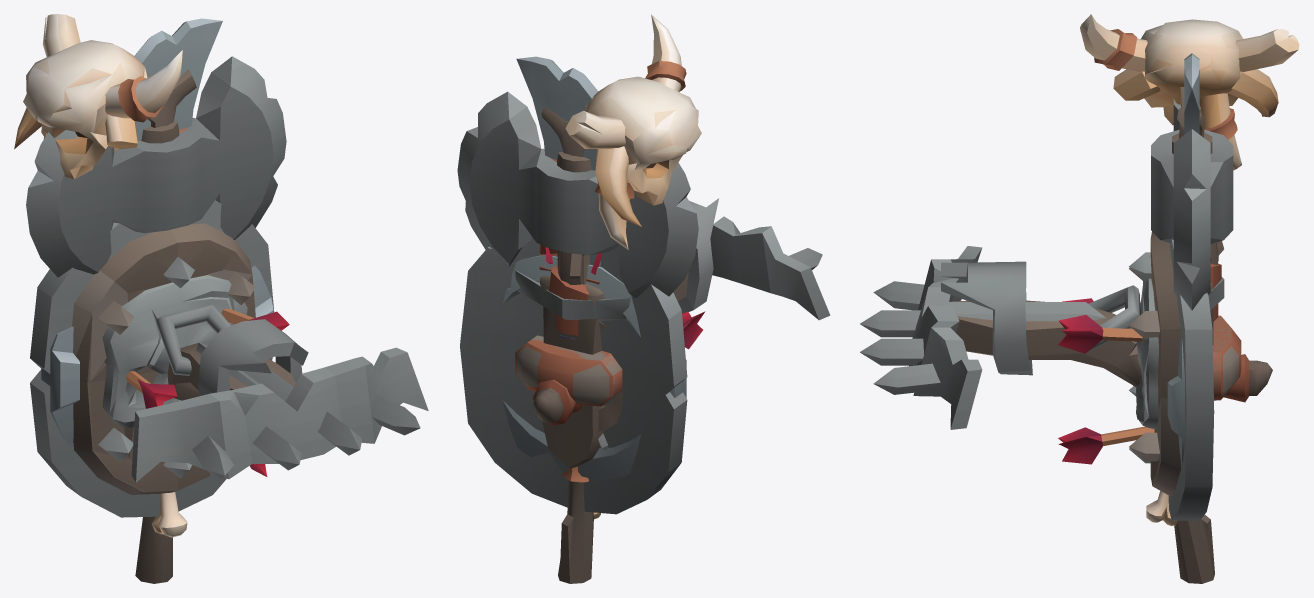
Rendered from k_bonearms.glb.
3 renders of one model, left to right at view 1: azimuth 30°, elevation 25°; view 2: azimuth 150°, elevation 25°; view 3: azimuth 270°, elevation 25°, orthographic. The views are drawn at different scales.
Parts seen in each view (by area): view 1: Skeleton_Crossbow, Skeleton_Axe, Skeleton_Shield_Large_B, Skeleton_Shield_Large_A, Skeleton_Staff, Skeleton_Blade, Skeleton_Shield_Small_B, Skeleton_Shield_Small_A; view 2: Skeleton_Axe, Skeleton_Shield_Large_B, Skeleton_Staff, Skeleton_Shield_Large_A, Skeleton_Crossbow, Skeleton_Blade, Skeleton_Shield_Small_B, Skeleton_Quiver; view 3: Skeleton_Crossbow, Skeleton_Staff, Skeleton_Axe, Skeleton_Shield_Large_B, Skeleton_Shield_Large_A, Skeleton_Shield_Small_B, Skeleton_Blade, Skeleton_Shield_Small_A.
Part boxes in pixels (left/top/right/bottom): Skeleton_Crossbow: left=131, top=304, right=428, bottom=482; Skeleton_Axe: left=26, top=56, right=286, bottom=277; Skeleton_Shield_Large_B: left=30, top=200, right=269, bottom=516; Skeleton_Shield_Large_A: left=30, top=201, right=274, bottom=517; Skeleton_Staff: left=14, top=14, right=196, bottom=583; Skeleton_Blade: left=134, top=18, right=222, bottom=140; Skeleton_Shield_Small_B: left=45, top=267, right=289, bottom=476; Skeleton_Shield_Small_A: left=41, top=266, right=273, bottom=444; Skeleton_Axe: left=457, top=91, right=698, bottom=335; Skeleton_Shield_Large_B: left=471, top=236, right=687, bottom=510; Skeleton_Staff: left=541, top=14, right=701, bottom=583; Skeleton_Shield_Large_A: left=460, top=247, right=687, bottom=514; Skeleton_Crossbow: left=533, top=198, right=830, bottom=425; Skeleton_Blade: left=515, top=56, right=630, bottom=450; Skeleton_Shield_Small_B: left=502, top=255, right=705, bottom=480; Skeleton_Quiver: left=540, top=247, right=604, bottom=468; Skeleton_Crossbow: left=860, top=246, right=1272, bottom=429; Skeleton_Staff: left=1080, top=14, right=1299, bottom=583; Skeleton_Axe: left=1151, top=99, right=1233, bottom=321; Skeleton_Shield_Large_B: left=1129, top=231, right=1238, bottom=520; Skeleton_Shield_Large_A: left=1136, top=239, right=1241, bottom=520; Skeleton_Shield_Small_B: left=1058, top=298, right=1185, bottom=464; Skeleton_Blade: left=1184, top=53, right=1224, bottom=310; Skeleton_Shield_Small_A: left=1167, top=337, right=1185, bottom=464.
Size of the model in its own units: 1.11 by 2.1 by 1.51.
1 material, 1 textured.
